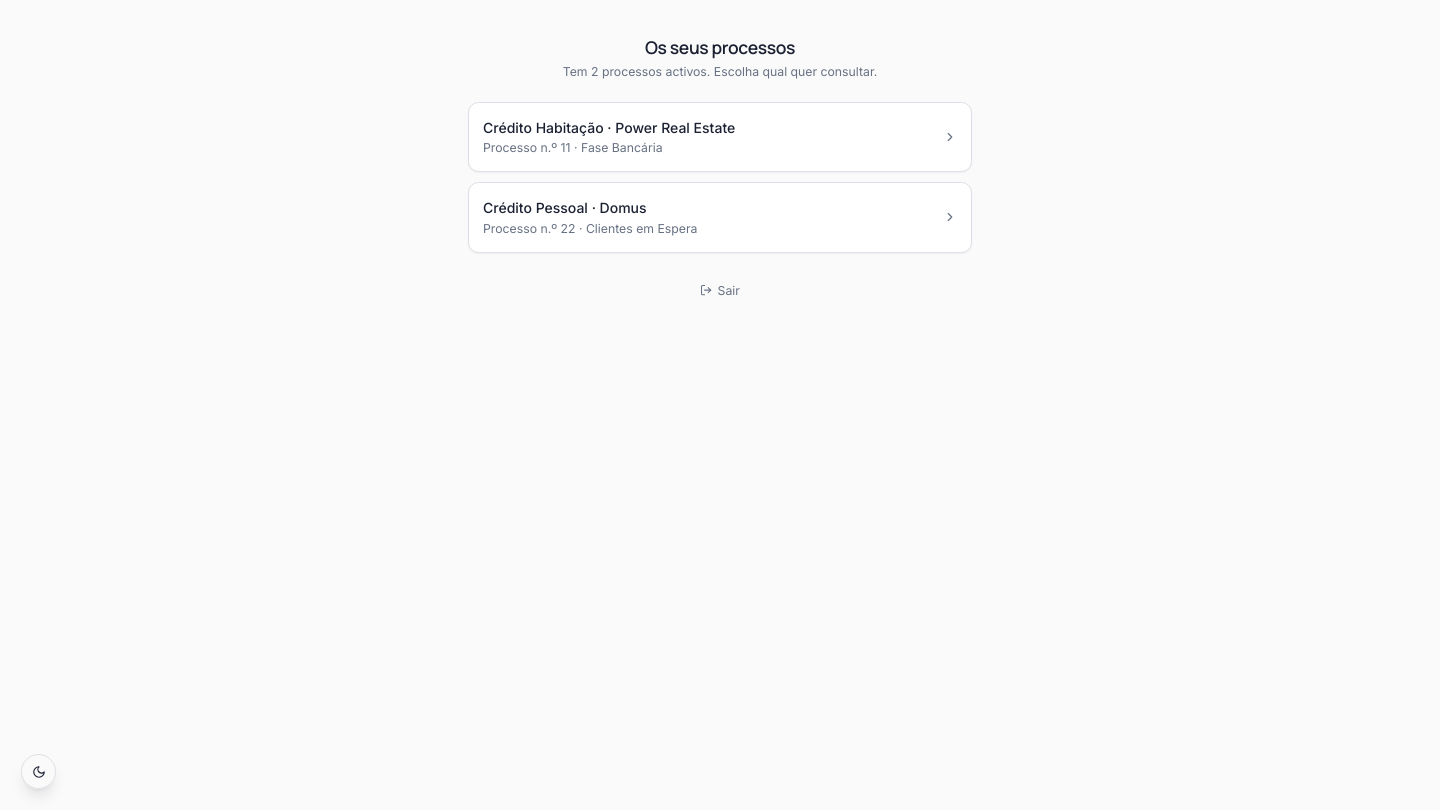
Test: o Hub antes de entrar num processo › a conversa que se vê é a do processo escolhido
The image size is (1440, 810).
Click the button "Power".
click(720, 137)  # box [468,102,972,172]
(page scrolled)
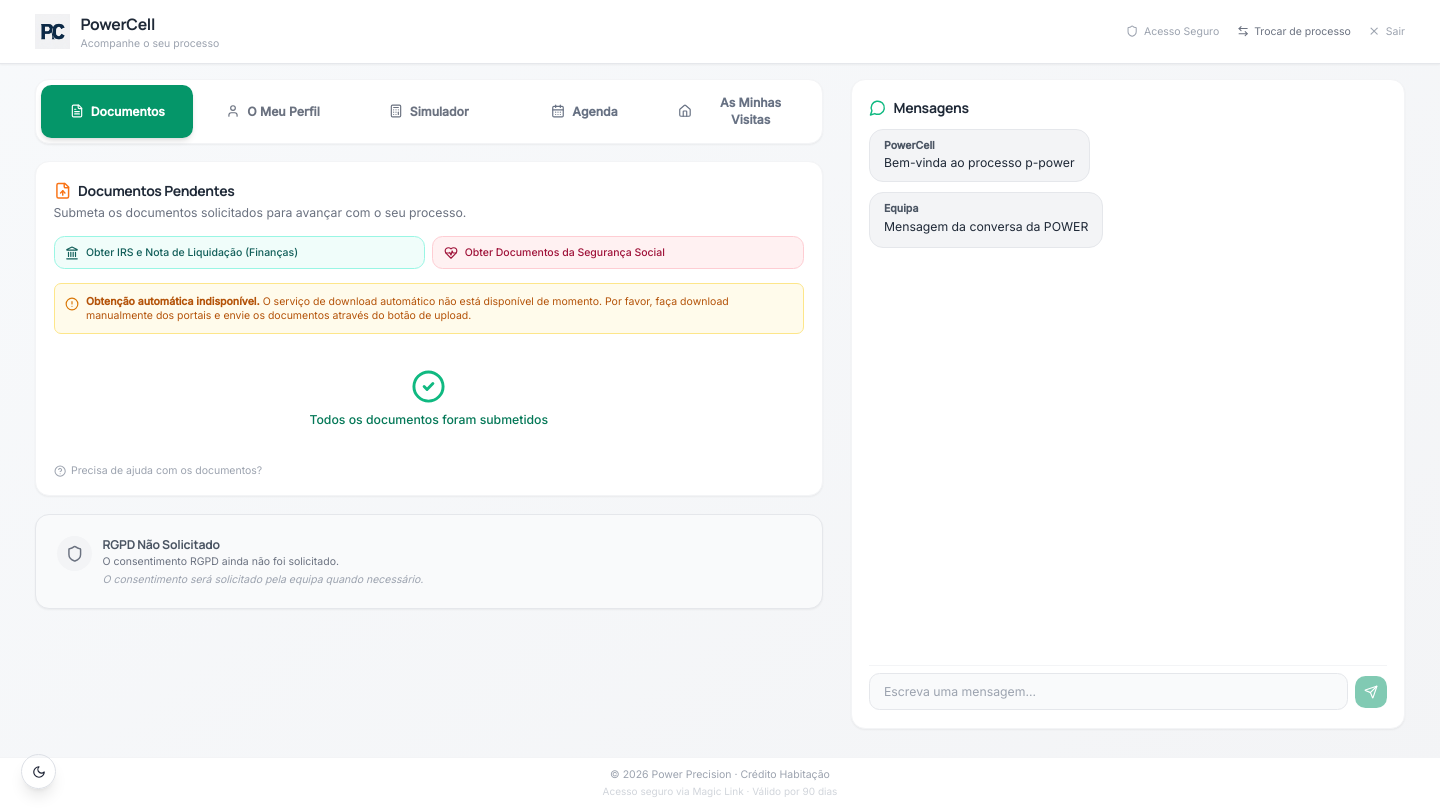
Result: the text "Mensagem da conversa da POWER" is shown at [884,218,1088,235]
